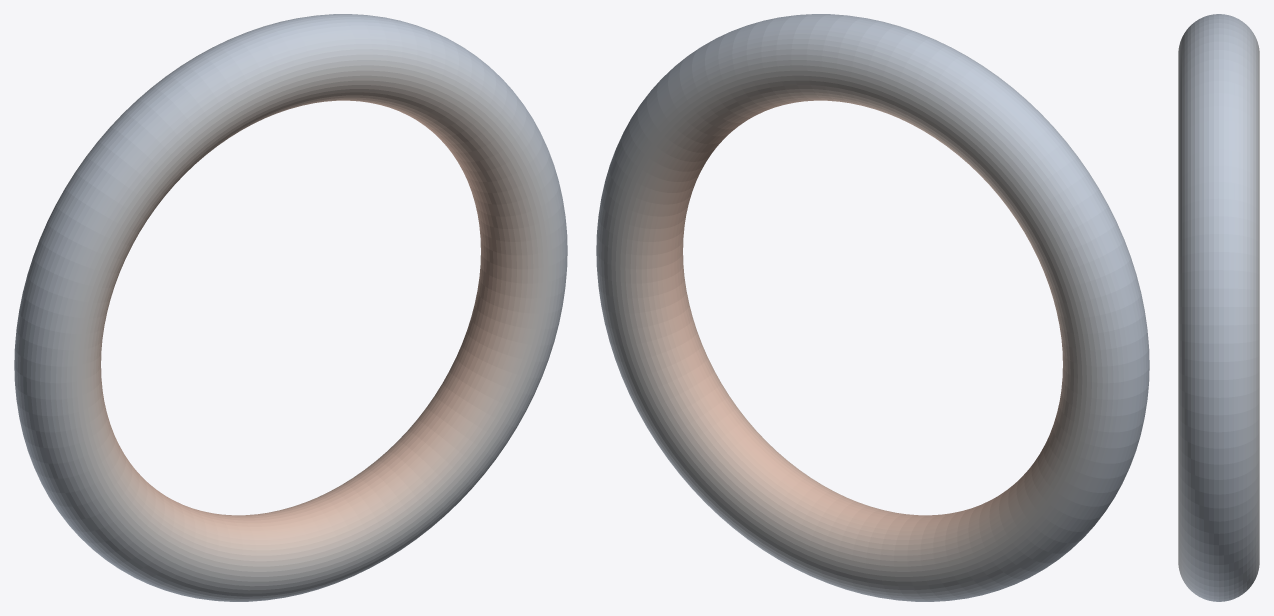
3 renders of one model, left to right at view 1: azimuth 30°, elevation 25°; view 2: azimuth 150°, elevation 25°; view 3: azimuth 270°, elevation 25°, orthographic. The views are drawn at different scales.
Parts seen in each view (by area): view 1: world; view 2: world; view 3: world.
Part boxes in pixels (left/top/right/bottom): world: left=14, top=14, right=567, bottom=601; world: left=596, top=14, right=1149, bottom=601; world: left=1178, top=14, right=1259, bottom=601.
Bounding box in the file's own units: 31.73 × 31.73 × 4.39.
